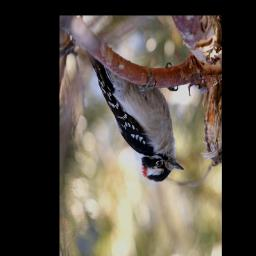Woodpecker: (88, 50, 184, 181)
